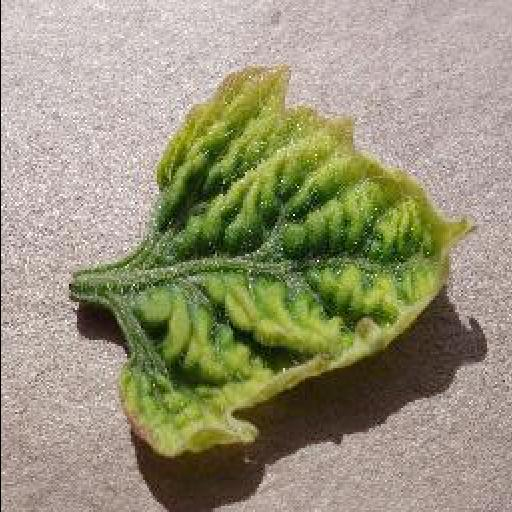disease_tomato: (116, 68, 476, 458)
